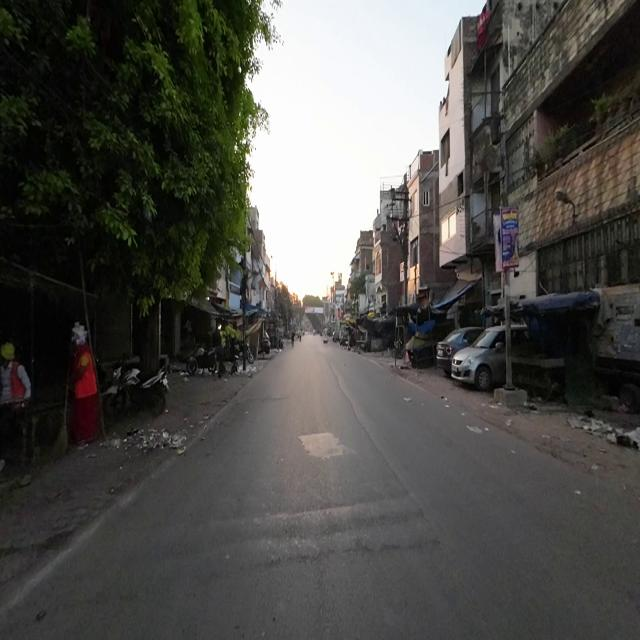Garbage: (570, 409, 612, 436), (139, 428, 185, 451)
